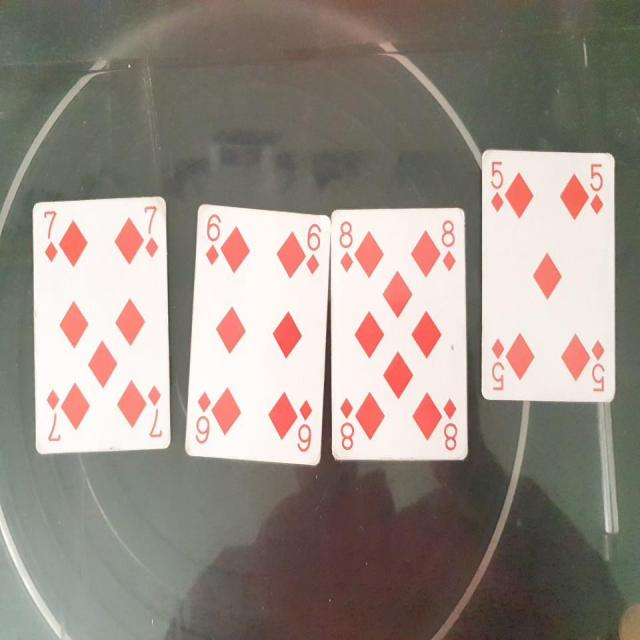5 Diamonds: (480, 148, 617, 404)
6 Diamonds: (184, 203, 329, 467)
7 Diamonds: (31, 196, 172, 456)
8 Diamonds: (330, 201, 471, 460)
